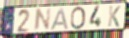2: (16, 8, 32, 33)
4: (89, 4, 104, 30)
A: (50, 7, 70, 31)
K: (107, 5, 122, 28)
N: (32, 7, 52, 33)
O: (70, 6, 86, 31)
